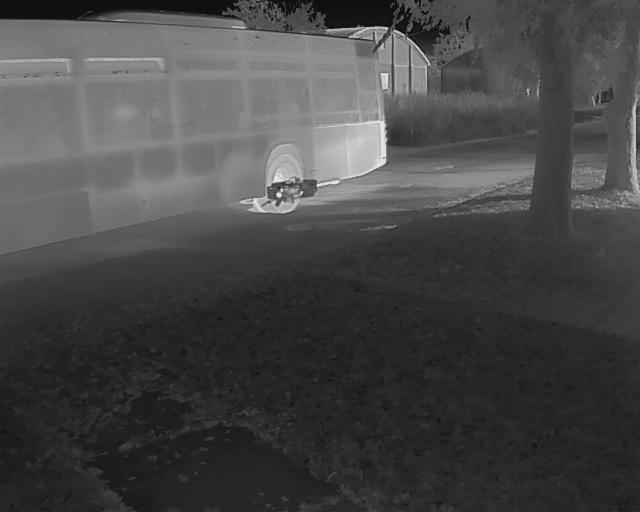drone: (260, 174, 327, 207)
